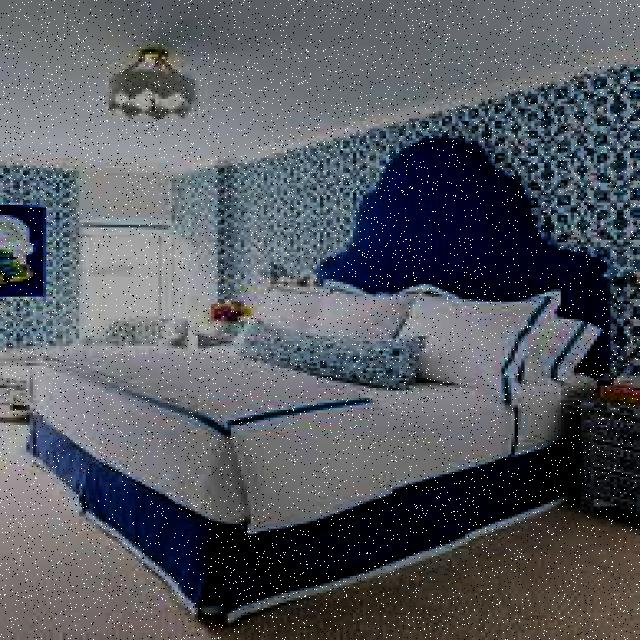bed: (0, 248, 614, 532)
